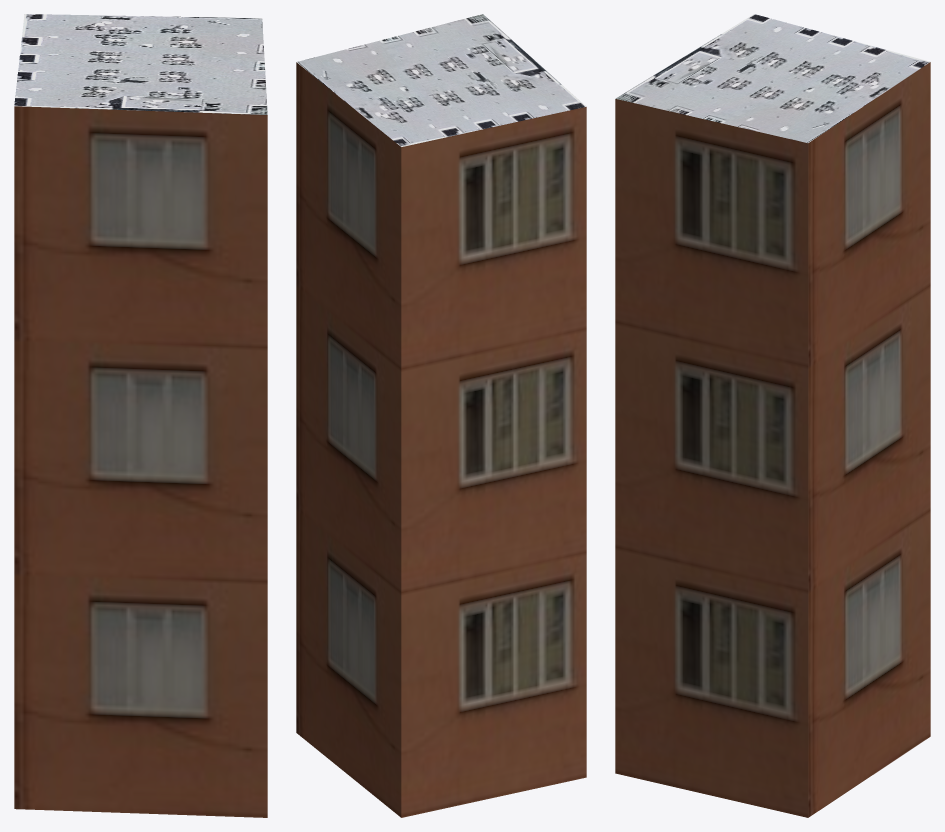
Rendered from ResTex__3334.fbx.
The picture shows the model from 3 angles, left to right: view 1: azimuth 30°, elevation 25°; view 2: azimuth 150°, elevation 25°; view 3: azimuth 270°, elevation 25°; orthographic projection. The views are drawn at different scales.
Visible parts, largest first — view 1: CityEngineMaterial_20_m, CityEngineMaterial_4_m; view 2: CityEngineMaterial_20_m, CityEngineMaterial_4_m; view 3: CityEngineMaterial_20_m, CityEngineMaterial_4_m.
Boxes of the visible parts, x1,y1,x2,y2 form: CityEngineMaterial_20_m: [14, 106, 267, 817]; CityEngineMaterial_4_m: [14, 14, 267, 114]; CityEngineMaterial_20_m: [296, 62, 586, 817]; CityEngineMaterial_4_m: [296, 14, 586, 146]; CityEngineMaterial_20_m: [615, 62, 930, 817]; CityEngineMaterial_4_m: [615, 14, 930, 142].
Bounding box in the file's own units: 3.7 × 9 × 3.82.
Materials: 2 (2 with a texture image).
